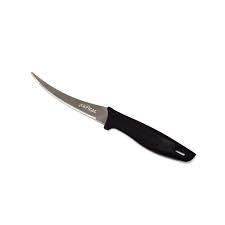Knife: (30, 71, 196, 162)
